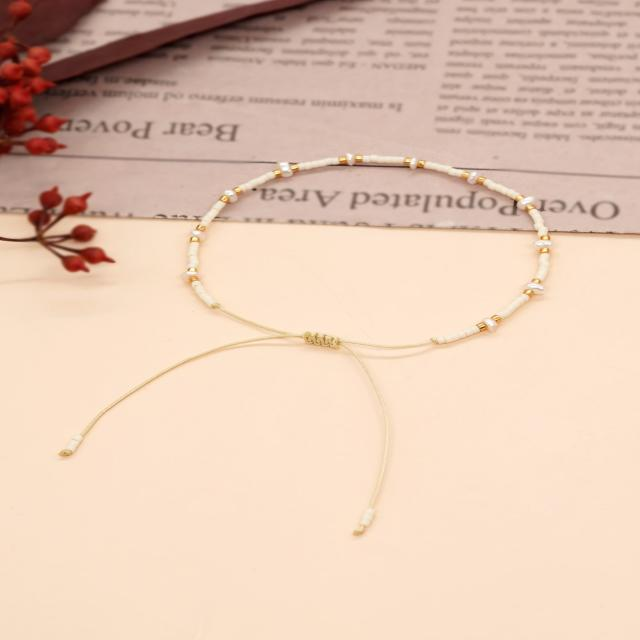bracelet: (44, 72, 626, 553)
